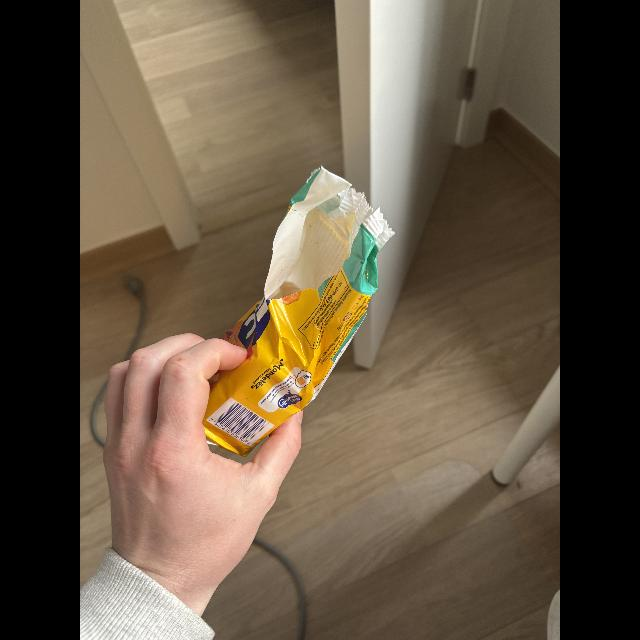Plastic: (200, 168, 398, 460)
